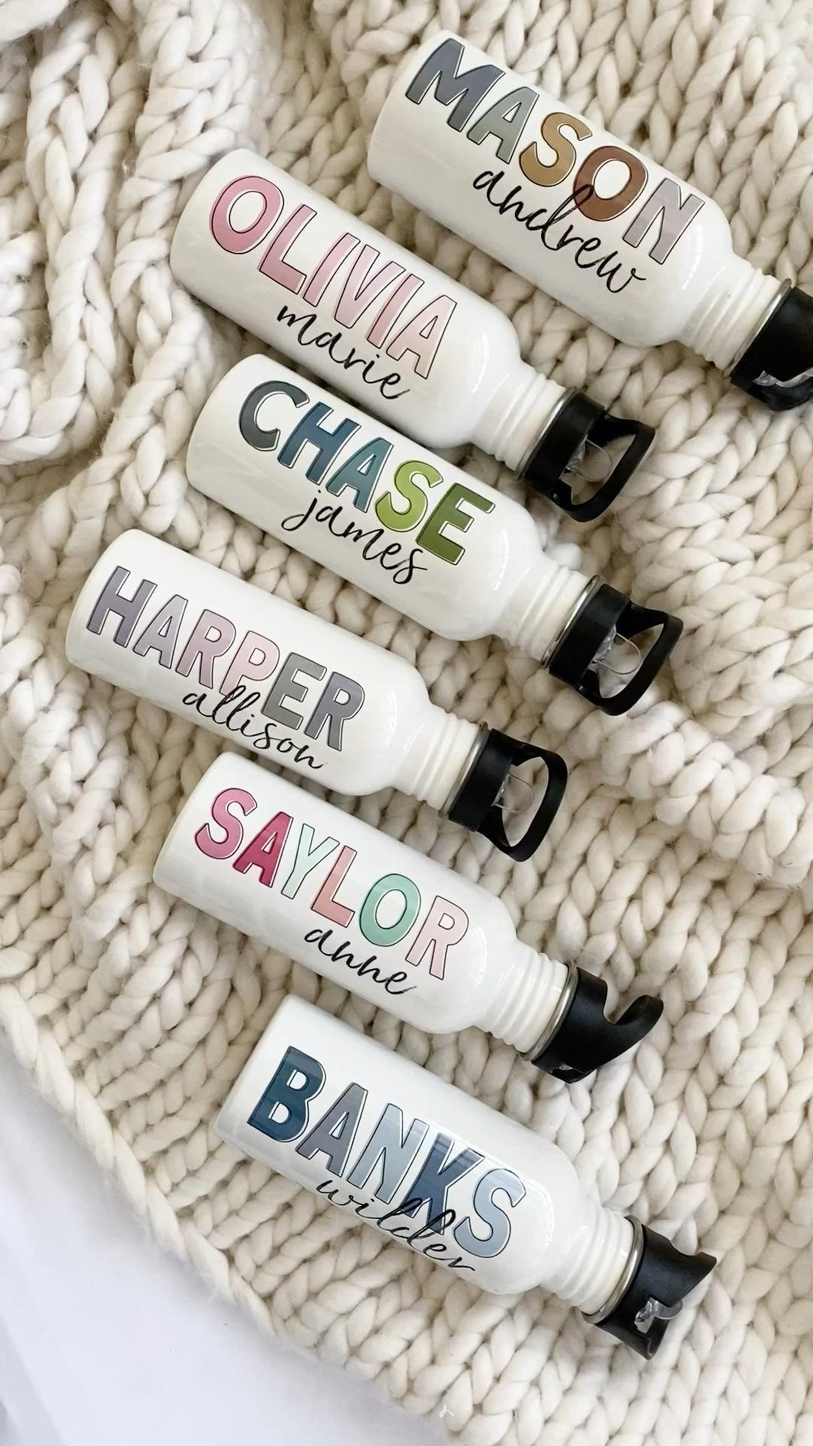gym bottle: (209, 997, 721, 1367), (141, 743, 670, 1088), (183, 352, 681, 714), (171, 147, 650, 523), (65, 526, 568, 858), (369, 31, 812, 407)
